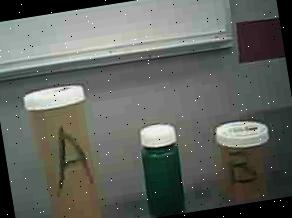Bottle A: (18, 73, 119, 218)
Bottle B: (204, 116, 284, 208)
Bottle C: (132, 118, 192, 218)
